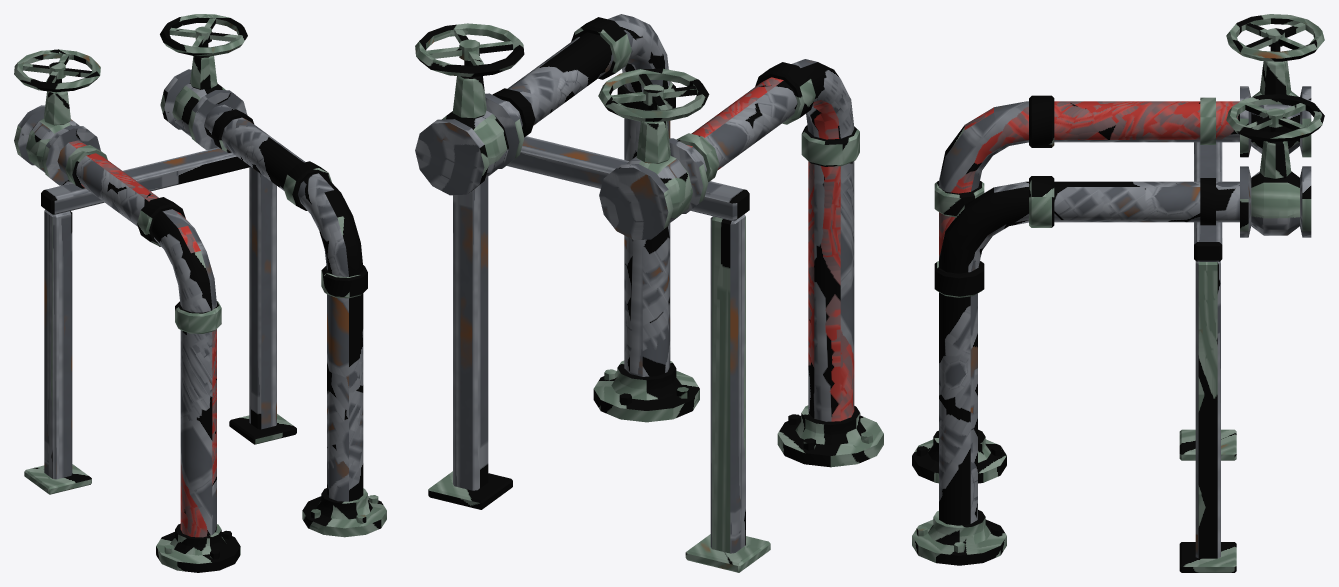
Rendered from pipe_assembly.glb.
3 renders of one model, left to right at view 1: azimuth 30°, elevation 25°; view 2: azimuth 150°, elevation 25°; view 3: azimuth 270°, elevation 25°, orthographic. The views are drawn at different scales.
Visible parts, largest first — view 1: pipe_left, pipe_right, stand_post_left, stand_post_right, stand_beam, valve_body_right, valve_body_left, floor_flange_right, floor_flange_left, handwheel_left, handwheel_right, stand_foot_left (+9 smaller); view 2: pipe_left, pipe_right, stand_post_left, stand_post_right, valve_body_right, valve_body_left, stand_beam, floor_flange_left, floor_flange_right, handwheel_left, handwheel_right, stand_foot_left (+8 smaller); view 3: pipe_right, pipe_left, stand_post_right, valve_body_right, floor_flange_right, handwheel_right, handwheel_left, stand_beam, floor_flange_left, valve_body_left, stand_foot_right, coupling_high_left (+8 smaller).
Boxes of the visible parts, left/top/right/bottom form: pipe_left: left=57, top=140, right=216, bottom=537; pipe_right: left=204, top=104, right=363, bottom=501; stand_post_left: left=44, top=209, right=72, bottom=479; stand_post_right: left=249, top=167, right=276, bottom=429; stand_beam: left=41, top=147, right=250, bottom=214; valve_body_right: left=160, top=69, right=247, bottom=149; valve_body_left: left=14, top=105, right=100, bottom=185; floor_flange_right: left=302, top=488, right=386, bottom=537; floor_flange_left: left=156, top=523, right=240, bottom=572; handwheel_left: left=14, top=49, right=100, bottom=92; handwheel_right: left=160, top=14, right=247, bottom=56; stand_foot_left: left=24, top=464, right=91, bottom=494; pipe_left: left=687, top=59, right=854, bottom=421; pipe_right: left=503, top=14, right=670, bottom=376; stand_post_left: left=710, top=214, right=745, bottom=553; stand_post_right: left=453, top=177, right=488, bottom=490; valve_body_right: left=415, top=93, right=524, bottom=195; valve_body_left: left=599, top=138, right=708, bottom=240; stand_beam: left=506, top=136, right=749, bottom=221; floor_flange_left: left=777, top=405, right=883, bottom=467; floor_flange_right: left=593, top=360, right=699, bottom=422; handwheel_left: left=598, top=68, right=709, bottom=121; handwheel_right: left=415, top=23, right=524, bottom=77; stand_foot_left: left=685, top=534, right=770, bottom=572; pipe_right: left=939, top=181, right=1239, bottom=525; pipe_left: left=939, top=101, right=1239, bottom=259; stand_post_right: left=1195, top=261, right=1220, bottom=558; valve_body_right: left=1240, top=166, right=1311, bottom=237; floor_flange_right: left=912, top=510, right=1006, bottom=565; handwheel_right: left=1226, top=94, right=1324, bottom=141; handwheel_left: left=1226, top=14, right=1324, bottom=61; stand_beam: left=1194, top=142, right=1222, bottom=261; floor_flange_left: left=912, top=429, right=1006, bottom=483; valve_body_left: left=1240, top=86, right=1311, bottom=157; stand_foot_right: left=1179, top=542, right=1236, bottom=572; coupling_high_left: left=1029, top=95, right=1054, bottom=147.
Size of what is drawn, in the model's own units: 1.02 by 1.51 by 1.31.
Materials: 3 (3 with a texture image).
